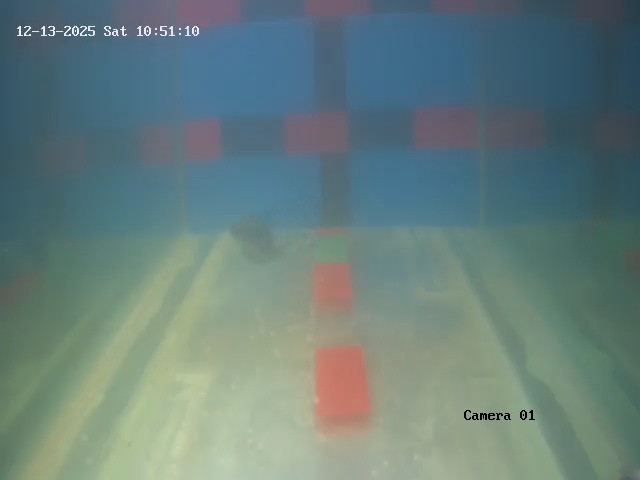fish: (234, 208, 282, 264)
